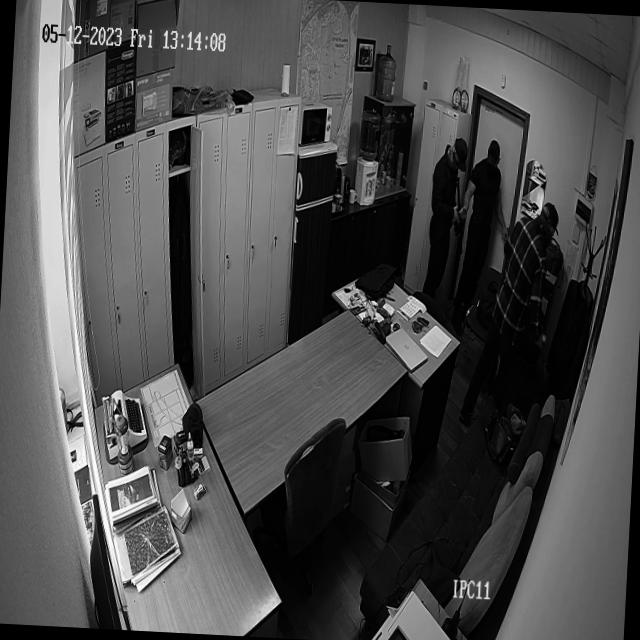gun: (450, 176, 468, 258)
person: (496, 192, 556, 392), (474, 134, 512, 215)
person with a gun: (420, 123, 470, 324)
